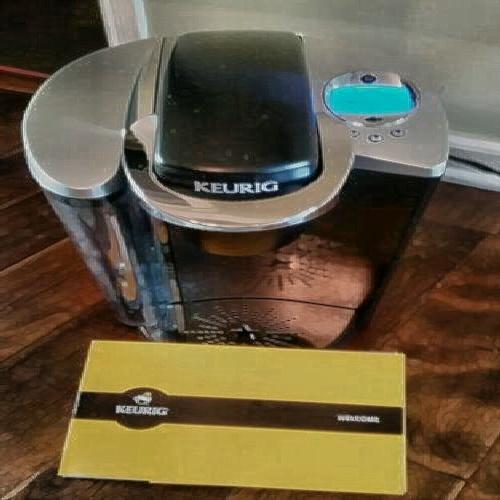coffee_maker: (32, 56, 431, 359)
